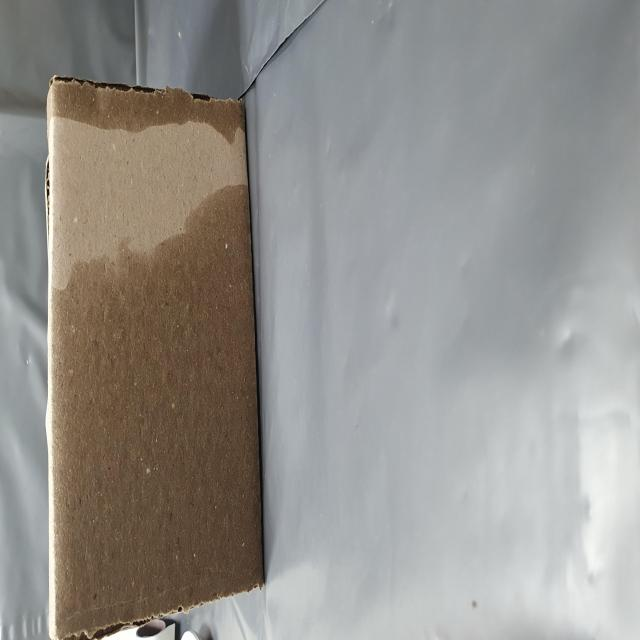wet: (7, 83, 309, 467)
